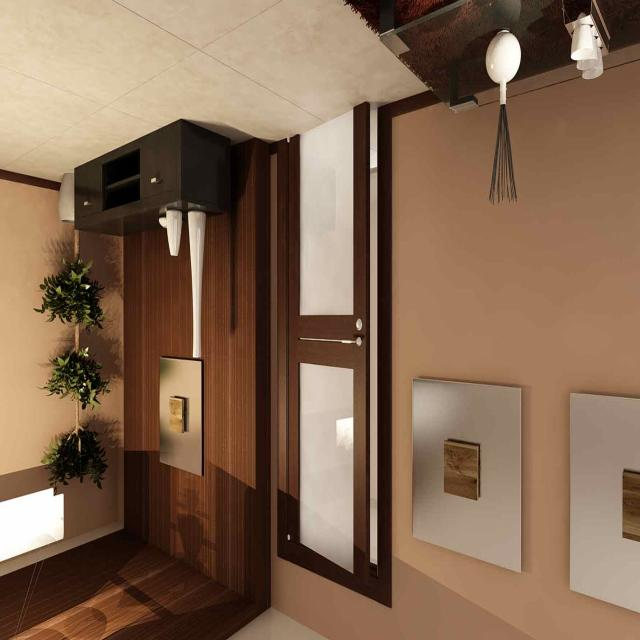open: (270, 110, 390, 590)
